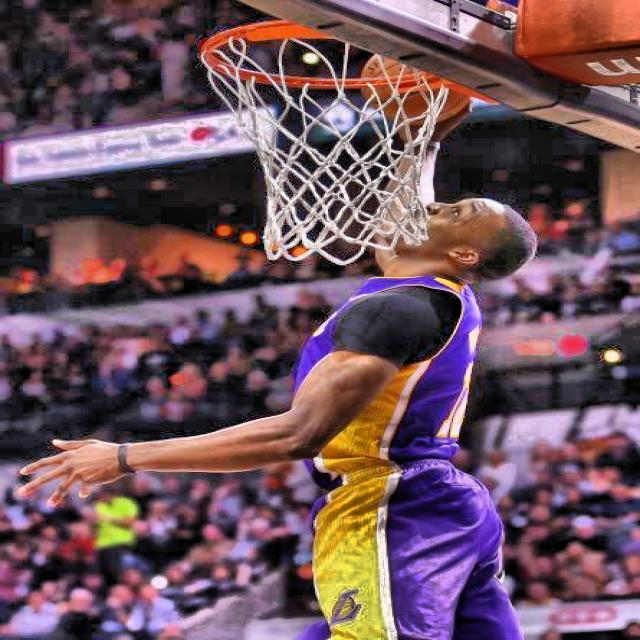rim: (201, 17, 458, 259)
